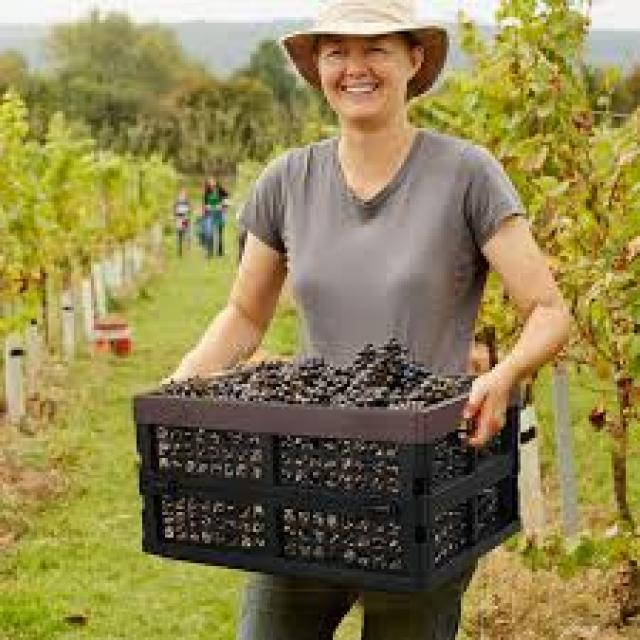basket: (134, 350, 520, 594)
